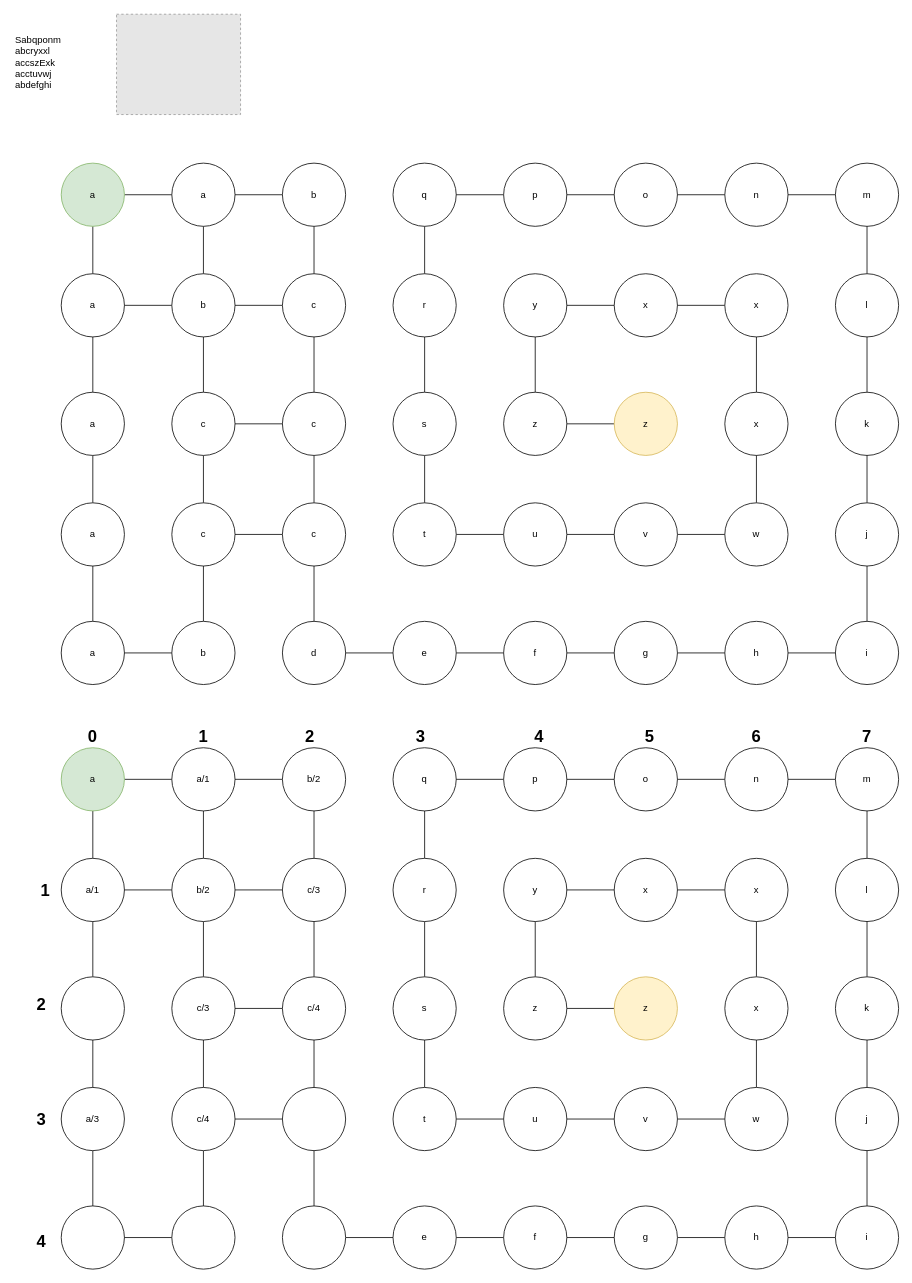
The diagram is 912 pixels wide and 1283 high, and some of its shapes have lost their labels. Grey dashed boxes stand in for pictures. Each missing label, with the centre of its shape:
"a/2" goes at (92,1008).
"a/4" goes at (92,1237).
"b/5" goes at (203,1237).
"c/5" goes at (314,1119).
"d/6" goes at (314,1237).
